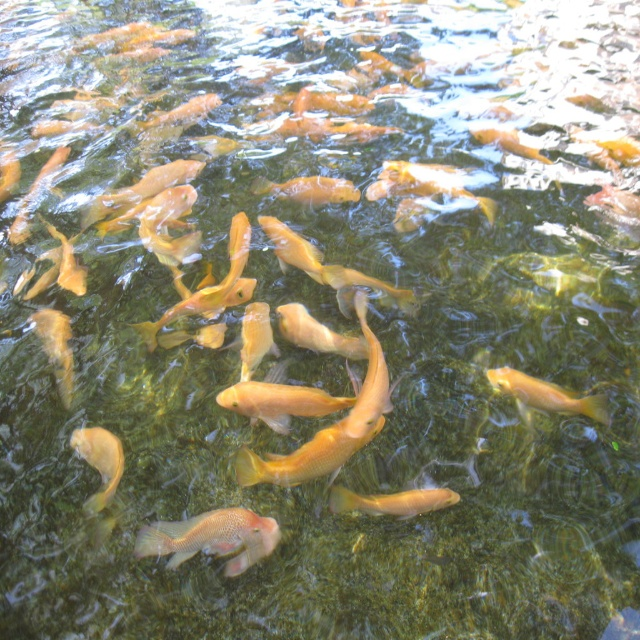Goldfish: (1, 0, 639, 579)
